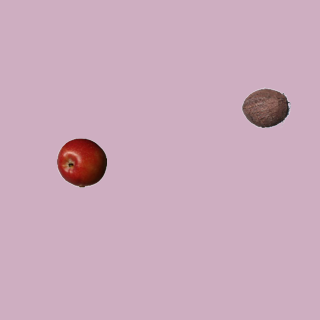Apple Braeburn: (56, 137, 106, 187)
Cocos: (240, 82, 290, 132)
